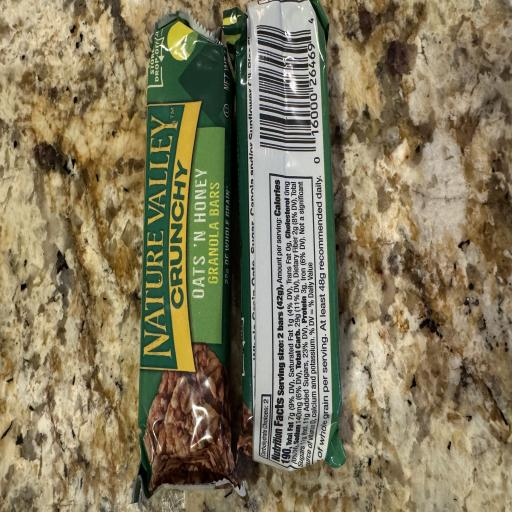chocolate: (223, 0, 345, 469)
granola: (191, 0, 345, 469), (134, 12, 236, 500)
